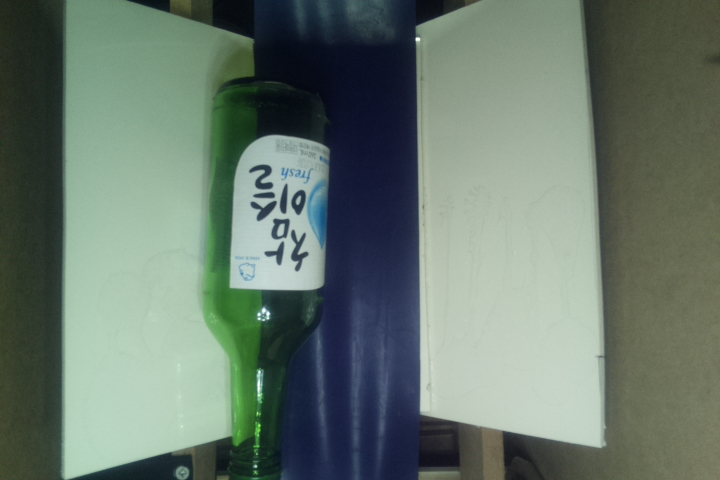soju: (203, 74, 330, 480)
